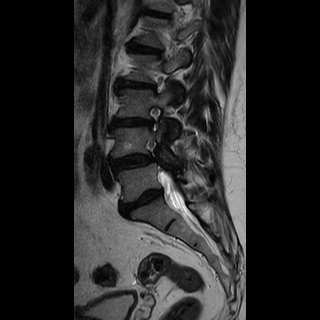RFS1: (140, 100, 165, 134)
